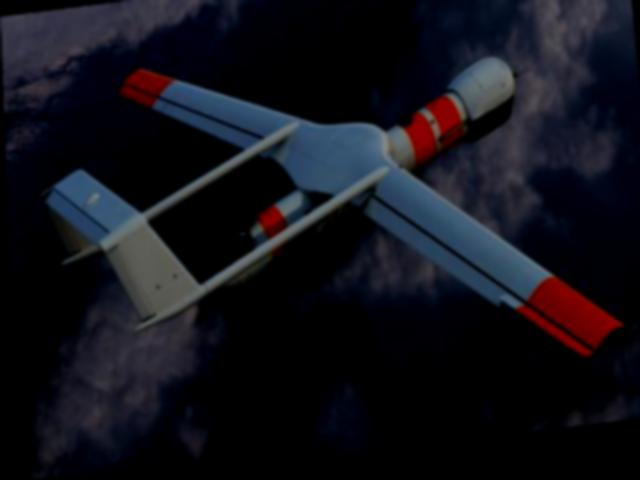uav: (26, 14, 633, 433)
